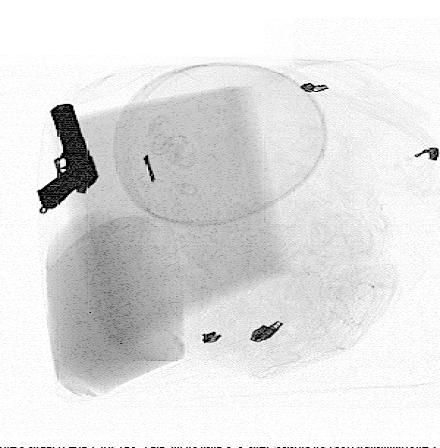Gun: (36, 104, 99, 208)
